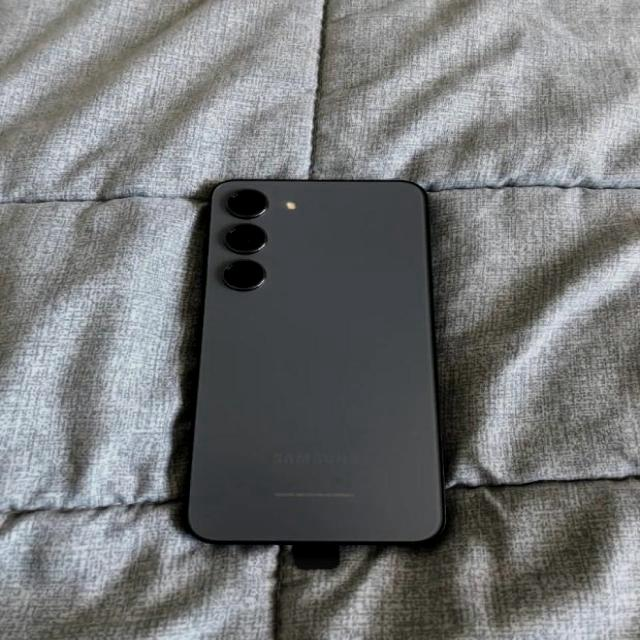lens: (223, 182, 270, 296)
phone: (192, 170, 455, 540)
